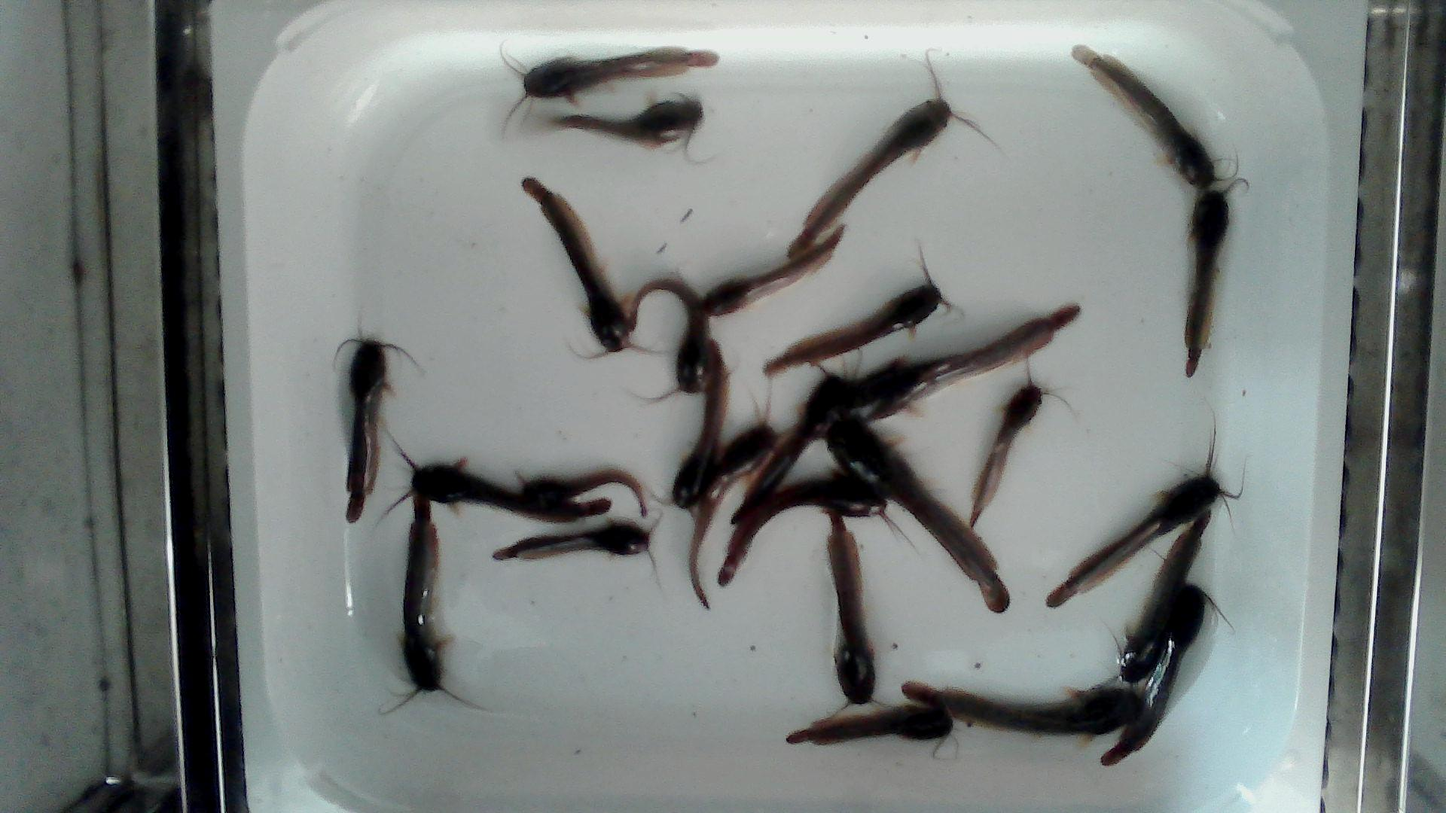lele: (788, 56, 981, 256), (820, 412, 1011, 613), (1044, 430, 1240, 610), (837, 303, 1079, 425), (1100, 582, 1236, 766), (522, 177, 657, 360), (1069, 44, 1231, 190), (380, 489, 482, 713), (716, 473, 915, 587), (764, 254, 951, 375), (691, 397, 786, 611), (730, 369, 850, 524), (377, 444, 612, 521), (1118, 508, 1213, 685), (901, 679, 1146, 745), (499, 45, 719, 117), (701, 225, 844, 318), (969, 378, 1048, 527), (827, 513, 884, 717), (666, 338, 729, 520), (340, 337, 399, 522), (1184, 181, 1239, 378), (630, 279, 712, 403), (493, 519, 658, 571), (554, 96, 703, 146), (789, 704, 955, 746), (513, 469, 646, 517)
